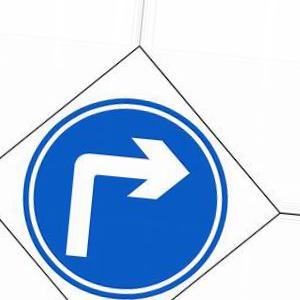right: (24, 98, 228, 298)
